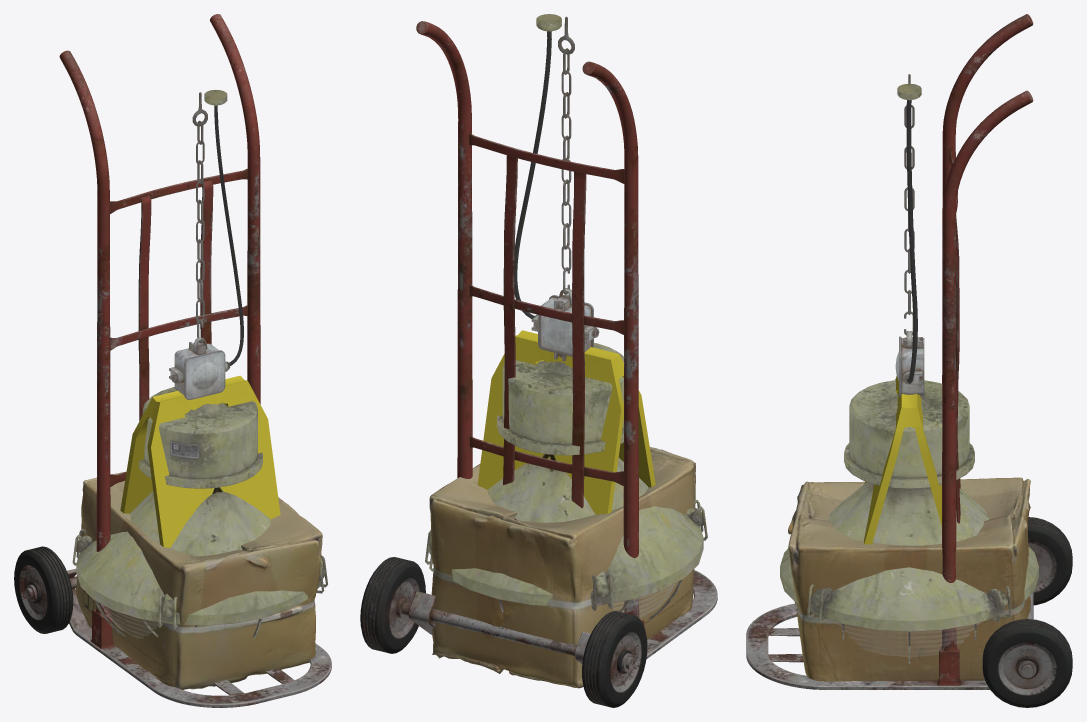
The model's file is logistics.glb.
3 renders of one model, left to right at view 1: azimuth 30°, elevation 25°; view 2: azimuth 150°, elevation 25°; view 3: azimuth 270°, elevation 25°, orthographic. The views are drawn at different scales.
Parts seen in each view (by area): view 1: hanging_industrial_lamp, hand_truck, cardboard_box_01, WetFloorSign_01; view 2: hand_truck, cardboard_box_01, hanging_industrial_lamp, WetFloorSign_01; view 3: hanging_industrial_lamp, hand_truck, cardboard_box_01, WetFloorSign_01.
Boxes of the visible parts, x1,y1,x2,y2 form: hanging_industrial_lamp: [72, 90, 327, 638]; hand_truck: [14, 14, 331, 707]; cardboard_box_01: [75, 472, 322, 689]; WetFloorSign_01: [120, 375, 280, 547]; hand_truck: [360, 21, 717, 707]; cardboard_box_01: [429, 447, 695, 688]; hanging_industrial_lamp: [425, 14, 707, 620]; WetFloorSign_01: [477, 330, 655, 514]; hanging_industrial_lamp: [780, 74, 1038, 663]; hand_truck: [746, 14, 1072, 707]; cardboard_box_01: [788, 477, 1030, 681]; WetFloorSign_01: [864, 376, 941, 544].
Bounding box in the file's own units: 0.5933 × 1.4 × 0.6925.
Materials: 5 (4 with a texture image).
